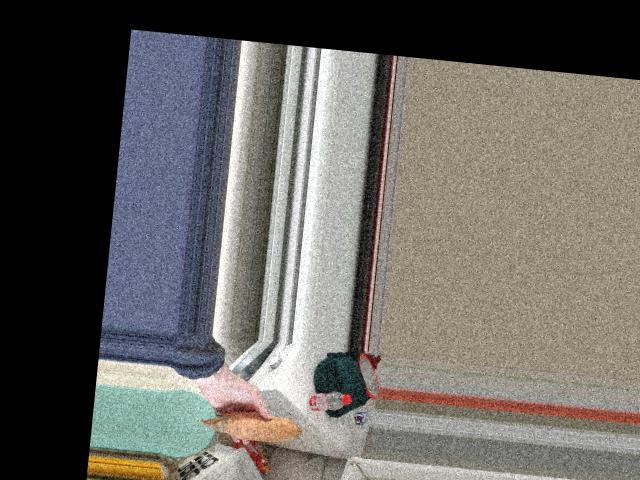sweet_potato: (213, 410, 289, 439)
